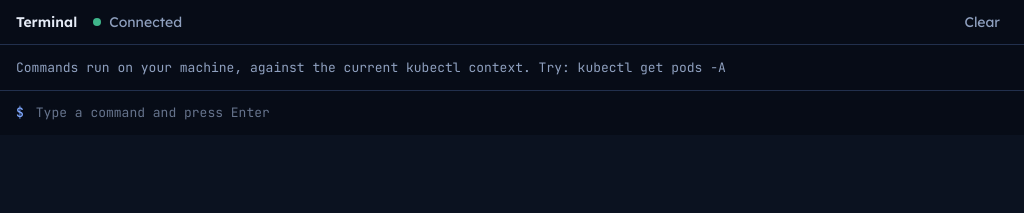
Test: shows the output again when the same command returns the same result
This screenshot has width=1024, height=213.
Type "kubectl get pods" into the field named "terminal command input". click: (522, 113)
box: [36, 103, 1008, 123]
Then press Enter
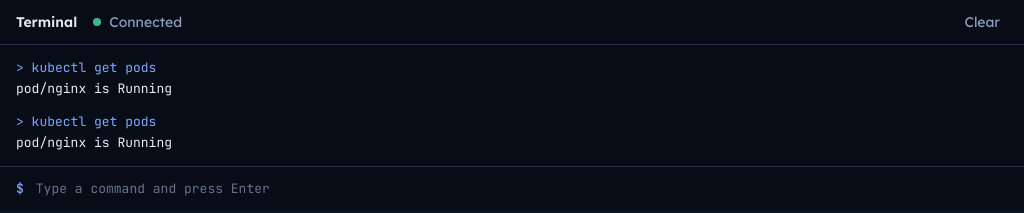
Check: the text "> kubectl get pods" is shown 2 times, box [16, 57, 156, 78]; [16, 111, 156, 132]
Check: the text "pod/nginx is Running" is shown 2 times, box [16, 78, 172, 99]; [16, 132, 172, 154]
